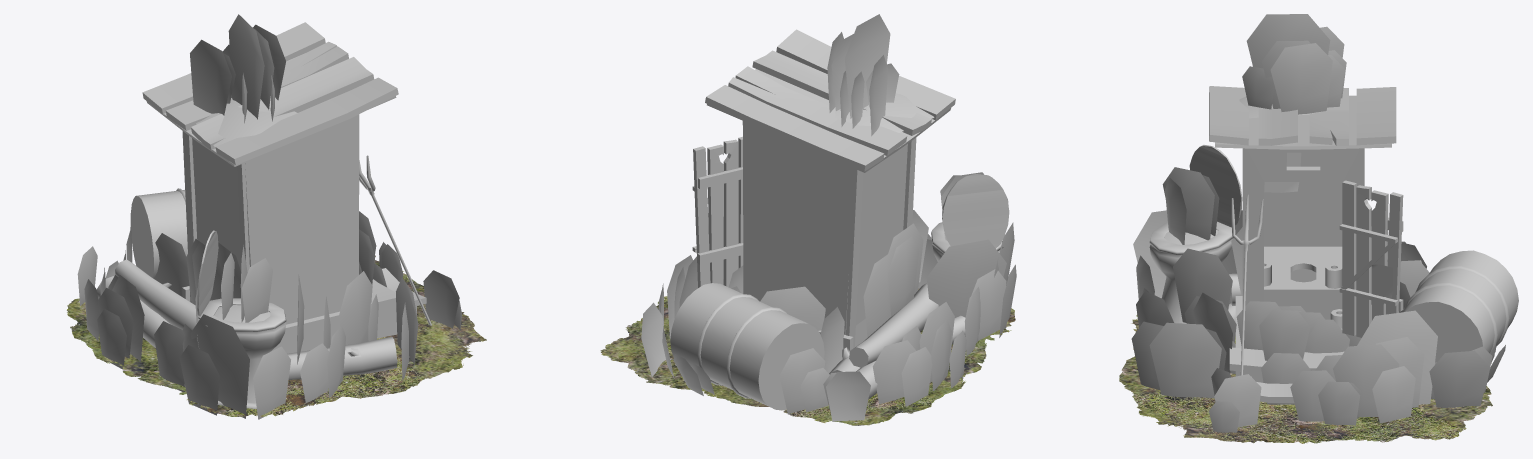
The model's file is 5propsscene.fbx.
3 views of the same model, side by side, from view 1: azimuth 30°, elevation 25°; view 2: azimuth 150°, elevation 25°; view 3: azimuth 270°, elevation 25° (orthographic). The views are drawn at different scales.
Visible parts, largest first — view 1: pROPS_OUTHOUSE_GEO, pPlane1, polySurface52, polySurface58, polySurface81, polySurface62, polySurface59, polySurface28, polySurface24, polySurface50, polySurface53, polySurface64 (+19 smaller); view 2: pROPS_OUTHOUSE_GEO, polySurface58, pPlane1, polySurface52, polySurface80, polySurface28, polySurface62, polySurface84, polySurface56, polySurface12, polySurface29, polySurface76 (+19 smaller); view 3: pROPS_OUTHOUSE_GEO, pPlane1, polySurface58, polySurface52, polySurface65, polySurface42, polySurface72, polySurface83, polySurface3, polySurface10, polySurface62, polySurface82 (+22 smaller).
Boxes of the visible parts, x1,y1,x2,y2 form: pROPS_OUTHOUSE_GEO: (142,22,426,353); pPlane1: (67,255,486,416); polySurface52: (197,230,286,408); polySurface58: (130,188,187,278); polySurface81: (190,314,249,418); polySurface62: (228,14,264,119); polySurface59: (190,39,231,115); polySurface28: (115,259,196,330); polySurface24: (287,336,397,379); polySurface50: (179,345,219,415); polySurface53: (253,346,290,419); polySurface64: (339,271,372,344); pROPS_OUTHOUSE_GEO: (692,29,955,350); polySurface58: (670,283,824,410); pPlane1: (600,288,1015,425); polySurface52: (931,172,1009,261); polySurface80: (926,239,1006,317); polySurface28: (849,283,938,367); polySurface62: (845,14,890,118); polySurface84: (826,371,870,421); polySurface56: (888,236,919,316); polySurface12: (872,340,916,403); polySurface29: (863,249,895,337); polySurface76: (779,348,825,414); pROPS_OUTHOUSE_GEO: (1209,86,1403,402); pPlane1: (1119,314,1492,443); polySurface58: (1402,250,1518,362); polySurface52: (1149,145,1242,323); polySurface65: (1149,322,1221,398); polySurface42: (1270,43,1332,114); polySurface72: (1429,350,1489,407); polySurface83: (1357,310,1437,404); polySurface3: (1173,248,1232,322); polySurface10: (1333,344,1399,417); polySurface62: (1246,14,1330,68); polySurface82: (1259,310,1310,360).
Bounding box in the file's own units: 24 × 23.04 × 25.3.
